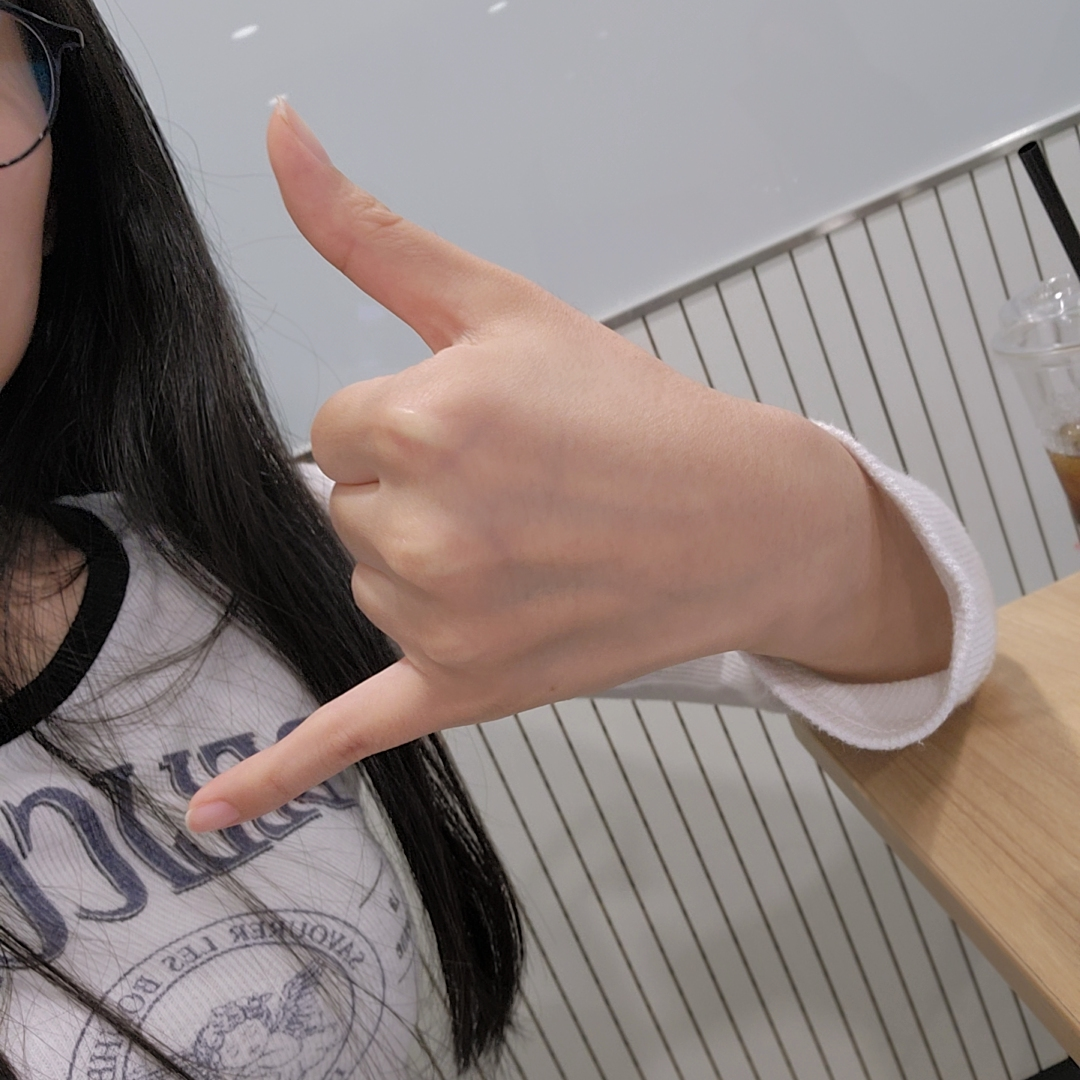call: (184, 97, 710, 832)
